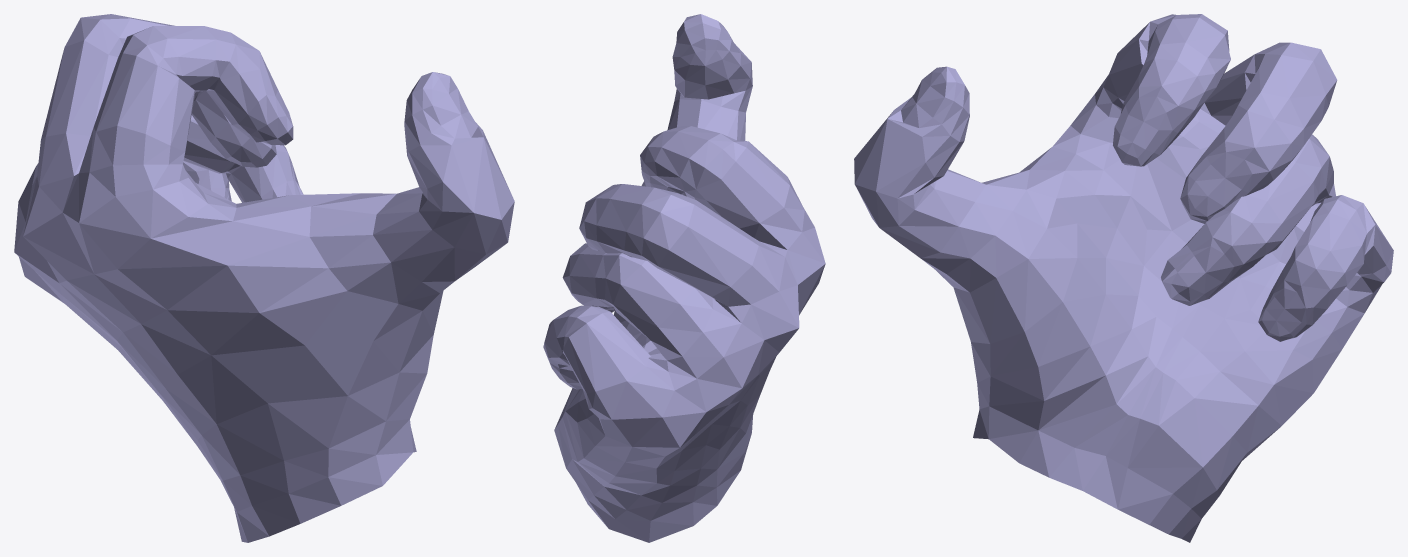
File: frame_0097_source_000097_hand.glb
3 views of the same model, side by side, from view 1: azimuth 30°, elevation 25°; view 2: azimuth 150°, elevation 25°; view 3: azimuth 270°, elevation 25° (orthographic). The views are drawn at different scales.
Visible parts, largest first — view 1: world; view 2: world; view 3: world.
Part boxes in pixels (x1,y1,x2,y2): world: (14,14,514,542); world: (543,14,825,542); world: (854,14,1393,542).
Bounding box in the file's own units: 0.0736 × 0.1191 × 0.1174.
